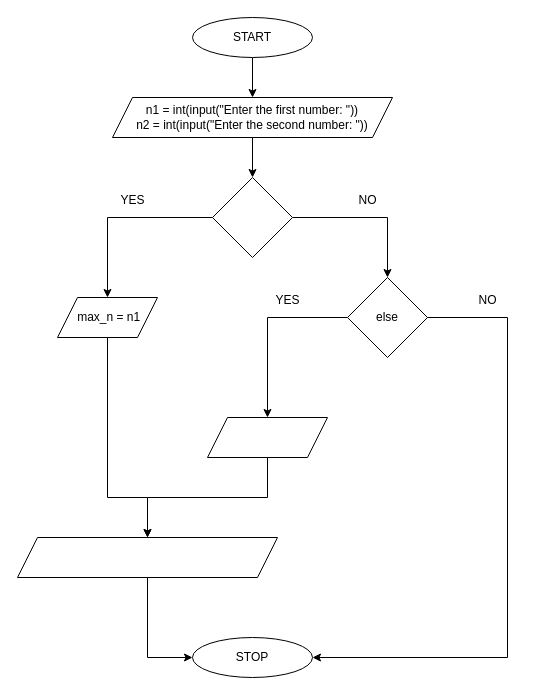
Image size: 533x695. Some labels were removed from this diagram. The shapes that lost their labels are listed below. From the top down, each one's box as (x1, y1, x2, y2) in pixels, then its label:
(212, 176, 292, 258): if n1 > n2
(206, 416, 328, 458): max_n = n2
(16, 536, 278, 578): print("The maximum number is:", max_n)
